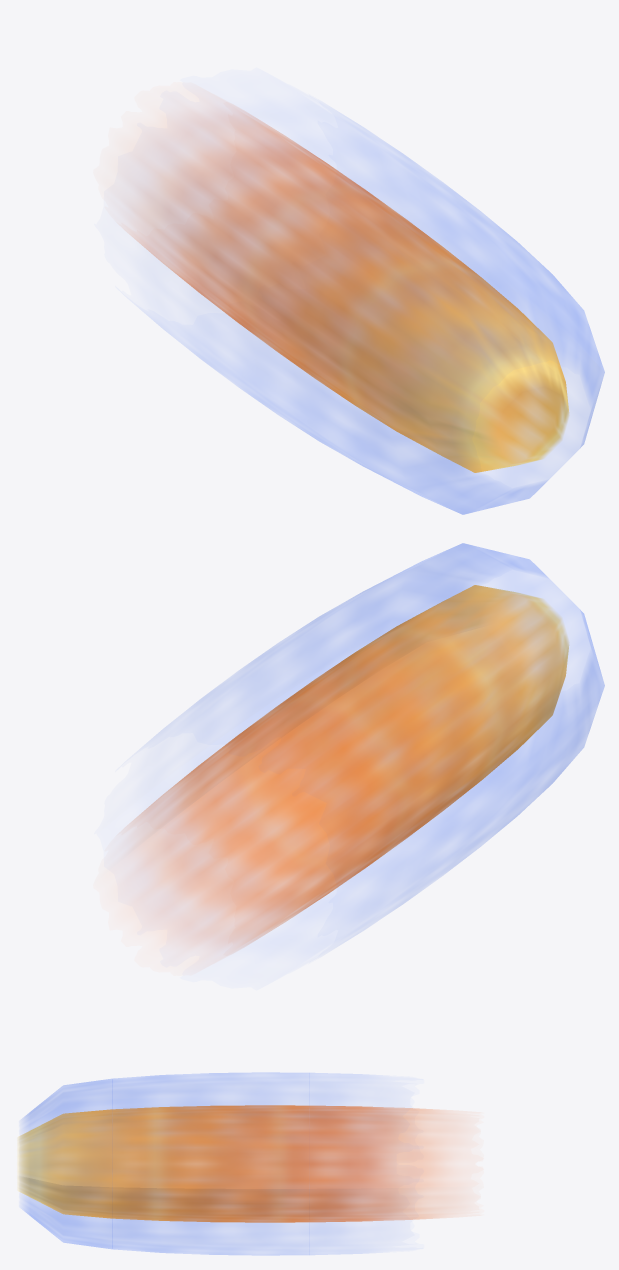
File: siege.glb
3 views of the same model, one above another, from view 1: azimuth 30°, elevation 25°; view 2: azimuth 150°, elevation 25°; view 3: azimuth 270°, elevation 25° (orthographic). The views are drawn at different scales.
Parts seen in each view (by area): view 1: siege | static fallback; view 2: siege | static fallback; view 3: siege | static fallback.
Part boxes in pixels (<box>): siege | static fallback: <box>127,102,604,514</box>; siege | static fallback: <box>127,543,604,955</box>; siege | static fallback: <box>18,1073,452,1254</box>.
Bounding box in the file's own units: 0.9372 × 0.8913 × 3.
1 material, 1 textured.
